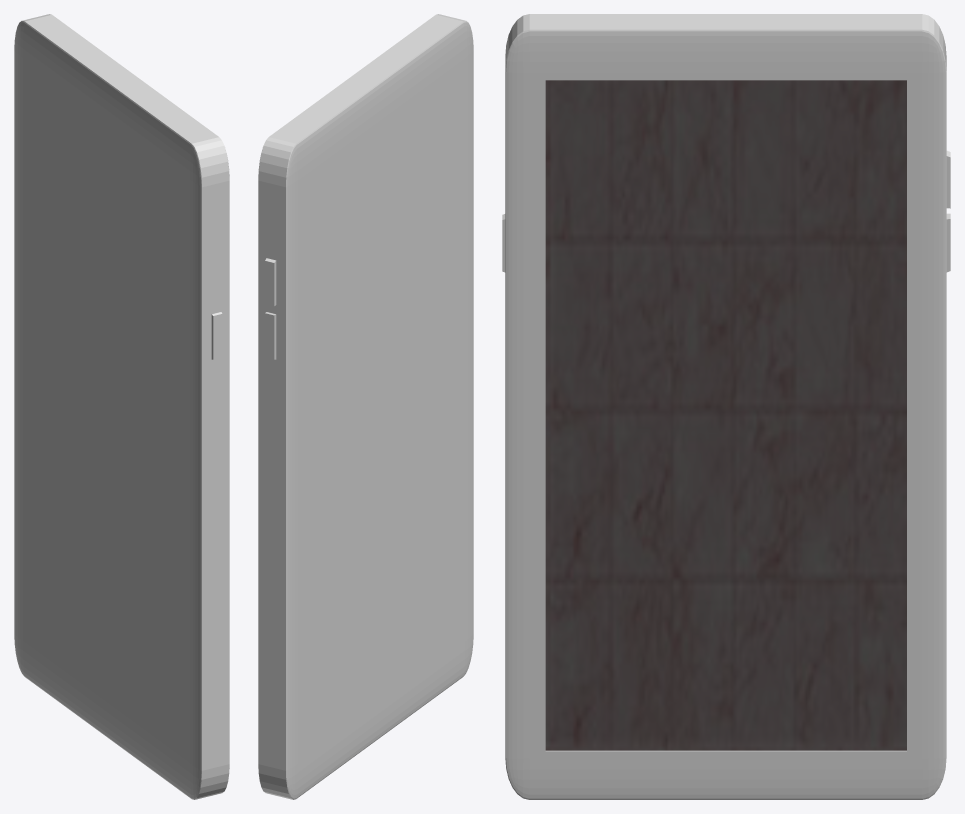
File: phone.fbx
3 views of the same model, side by side, from view 1: azimuth 30°, elevation 25°; view 2: azimuth 150°, elevation 25°; view 3: azimuth 270°, elevation 25° (orthographic). The views are drawn at different scales.
Parts seen in each view (by area): view 1: TelephoneBase; view 2: TelephoneBase; view 3: Screen, TelephoneBase.
Boxes of the visible parts, x1,y1,x2,y2 form: TelephoneBase: [14, 14, 229, 799]; TelephoneBase: [258, 14, 473, 799]; Screen: [545, 80, 906, 750]; TelephoneBase: [502, 14, 950, 799].
Bounding box in the file's own units: 35.22 × 713 × 376.
